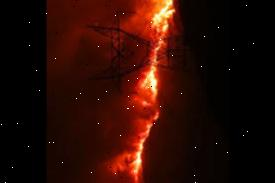fire: (107, 73, 167, 183)
